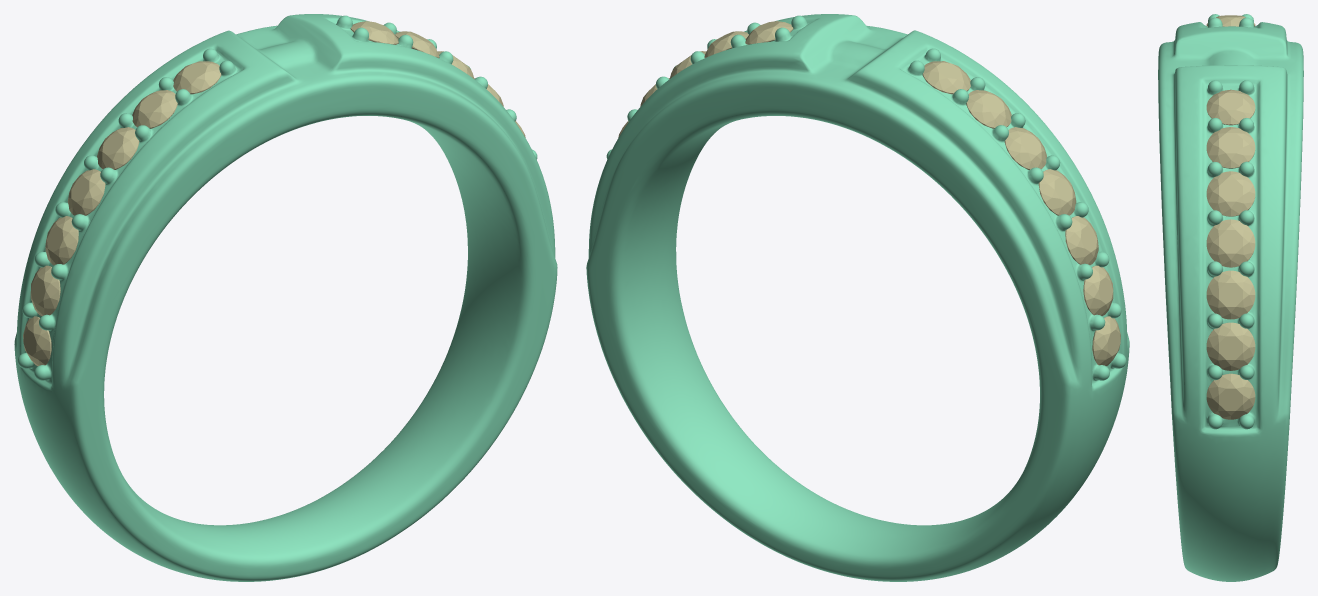
3 renders of one model, left to right at view 1: azimuth 30°, elevation 25°; view 2: azimuth 150°, elevation 25°; view 3: azimuth 270°, elevation 25°, orthographic. The views are drawn at different scales.
Visible parts, largest first — view 1: Metal02, Diamond_Gem.006, Diamond_Gem.005, Diamond_Gem.004, Diamond_Gem.002, Diamond_Gem.003, Diamond_Gem.001, Diamond_Gem; view 2: Metal02, Diamond_Gem.006, Diamond_Gem.005, Diamond_Gem.004, Diamond_Gem.002, Diamond_Gem.003, Diamond_Gem.001, Diamond_Gem; view 3: Metal02, Diamond_Gem.011, Diamond_Gem.012, Diamond_Gem.007, Diamond_Gem.013, Diamond_Gem.008, Diamond_Gem.009, Diamond_Gem.010, Diamond_Gem.003.
Boxes of the visible parts, left/top/right/bottom form: Metal02: left=14, top=14, right=557, bottom=581; Diamond_Gem.006: left=67, top=169, right=105, bottom=215; Diamond_Gem.005: left=97, top=127, right=139, bottom=169; Diamond_Gem.004: left=132, top=90, right=177, bottom=128; Diamond_Gem.002: left=45, top=216, right=78, bottom=265; Diamond_Gem.003: left=173, top=61, right=221, bottom=94; Diamond_Gem.001: left=30, top=265, right=60, bottom=315; Diamond_Gem: left=23, top=316, right=51, bottom=365; Metal02: left=586, top=14, right=1129, bottom=581; Diamond_Gem.006: left=1038, top=169, right=1076, bottom=215; Diamond_Gem.005: left=1004, top=127, right=1046, bottom=169; Diamond_Gem.004: left=966, top=90, right=1011, bottom=128; Diamond_Gem.002: left=1065, top=216, right=1098, bottom=264; Diamond_Gem.003: left=922, top=61, right=970, bottom=94; Diamond_Gem.001: left=1083, top=265, right=1113, bottom=315; Diamond_Gem: left=1092, top=316, right=1120, bottom=365; Metal02: left=1158, top=14, right=1303, bottom=581; Diamond_Gem.011: left=1206, top=270, right=1255, bottom=319; Diamond_Gem.012: left=1206, top=322, right=1255, bottom=370; Diamond_Gem.007: left=1206, top=219, right=1255, bottom=267; Diamond_Gem.013: left=1206, top=373, right=1255, bottom=419; Diamond_Gem.008: left=1206, top=171, right=1255, bottom=216; Diamond_Gem.009: left=1206, top=127, right=1255, bottom=168; Diamond_Gem.010: left=1206, top=89, right=1255, bottom=125; Diamond_Gem.003: left=1206, top=15, right=1255, bottom=26.
Bounding box in the file's own units: 22.22 × 21.78 × 5.66.
